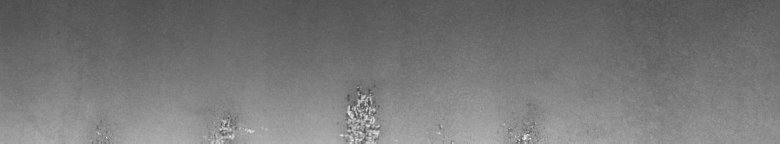hc: (340, 84, 539, 136)
